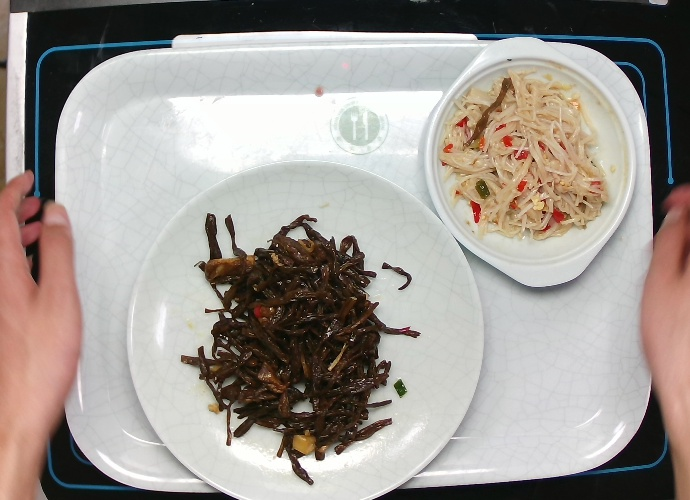JYsf-Da_Yuan_Pan: (121, 149, 491, 498)
JYsf-Shuang_Er_Pan: (420, 29, 645, 294)
